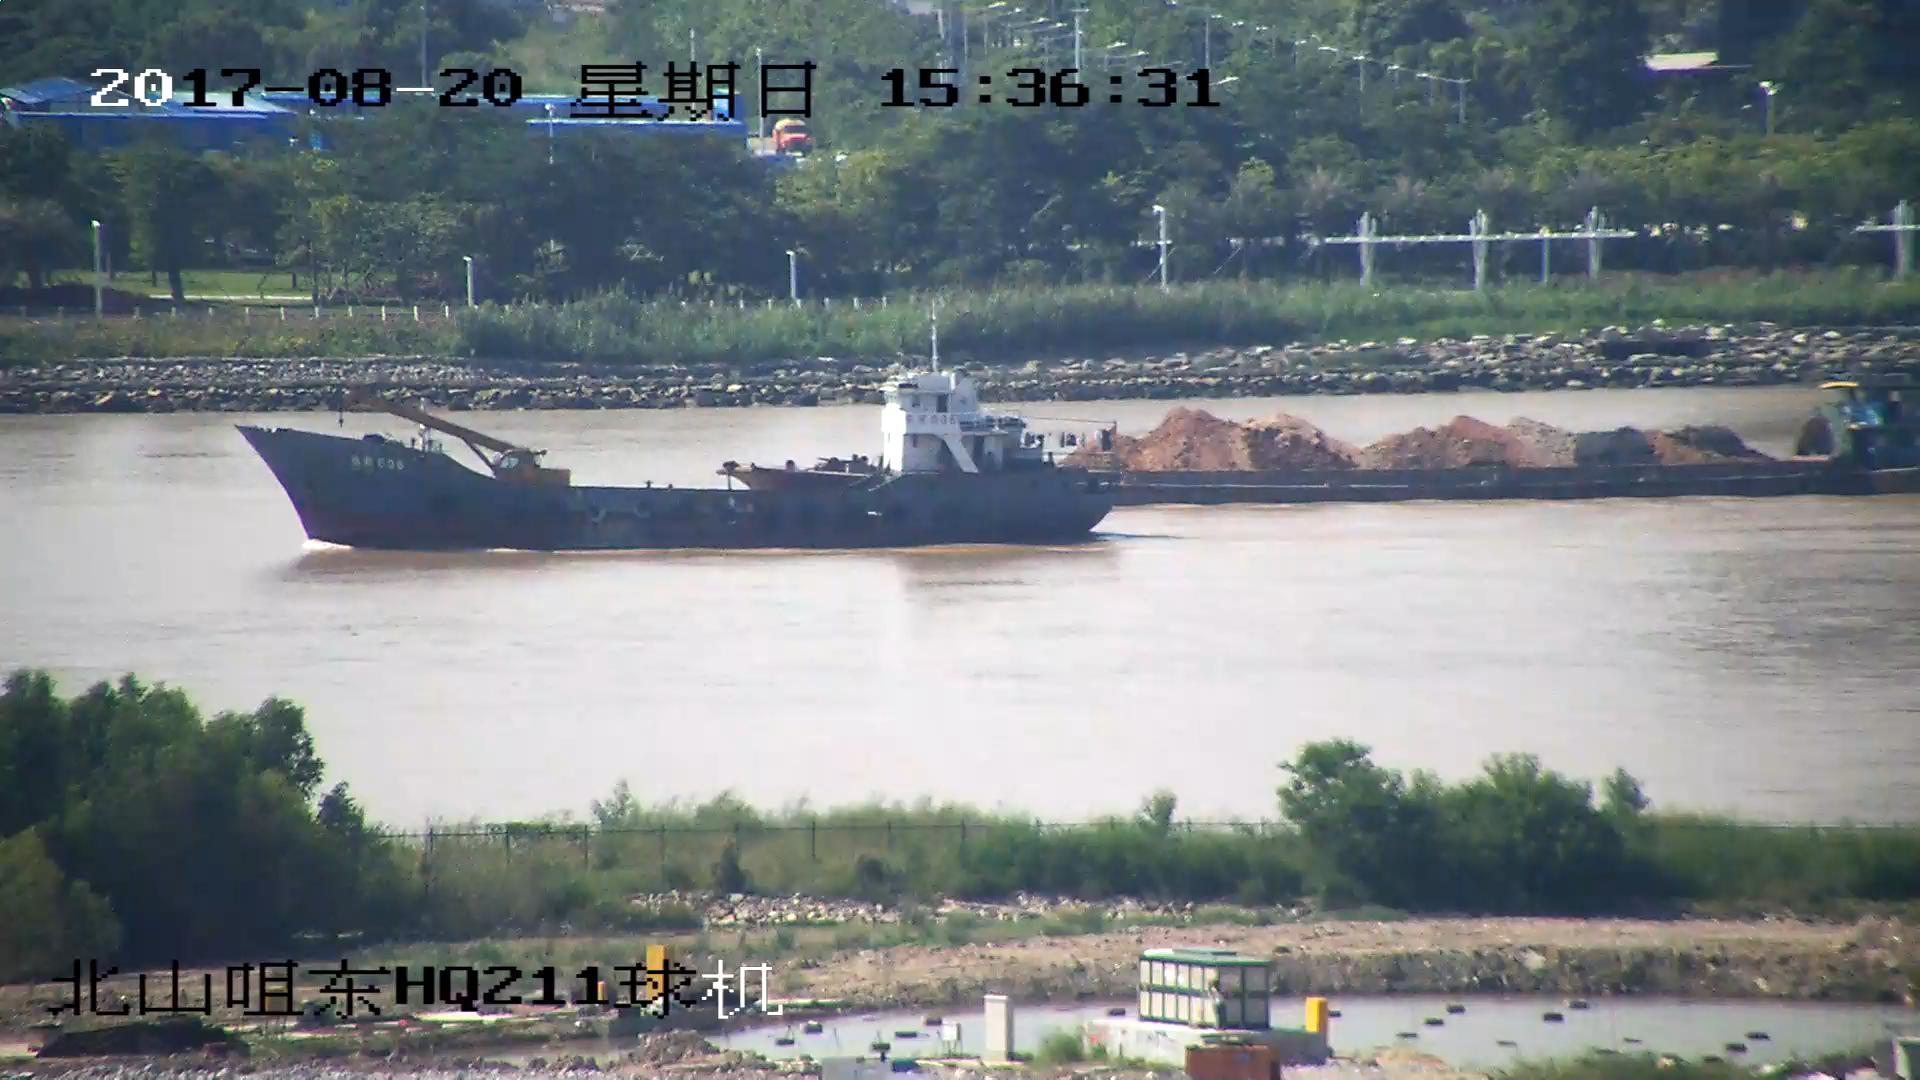Ship: (240, 301, 1120, 549), (728, 378, 1920, 501)
